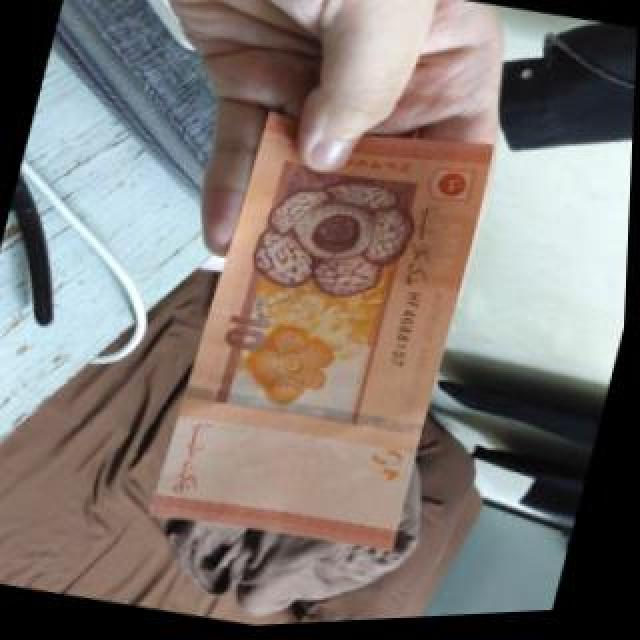10 Ringgit: (152, 94, 498, 565)
